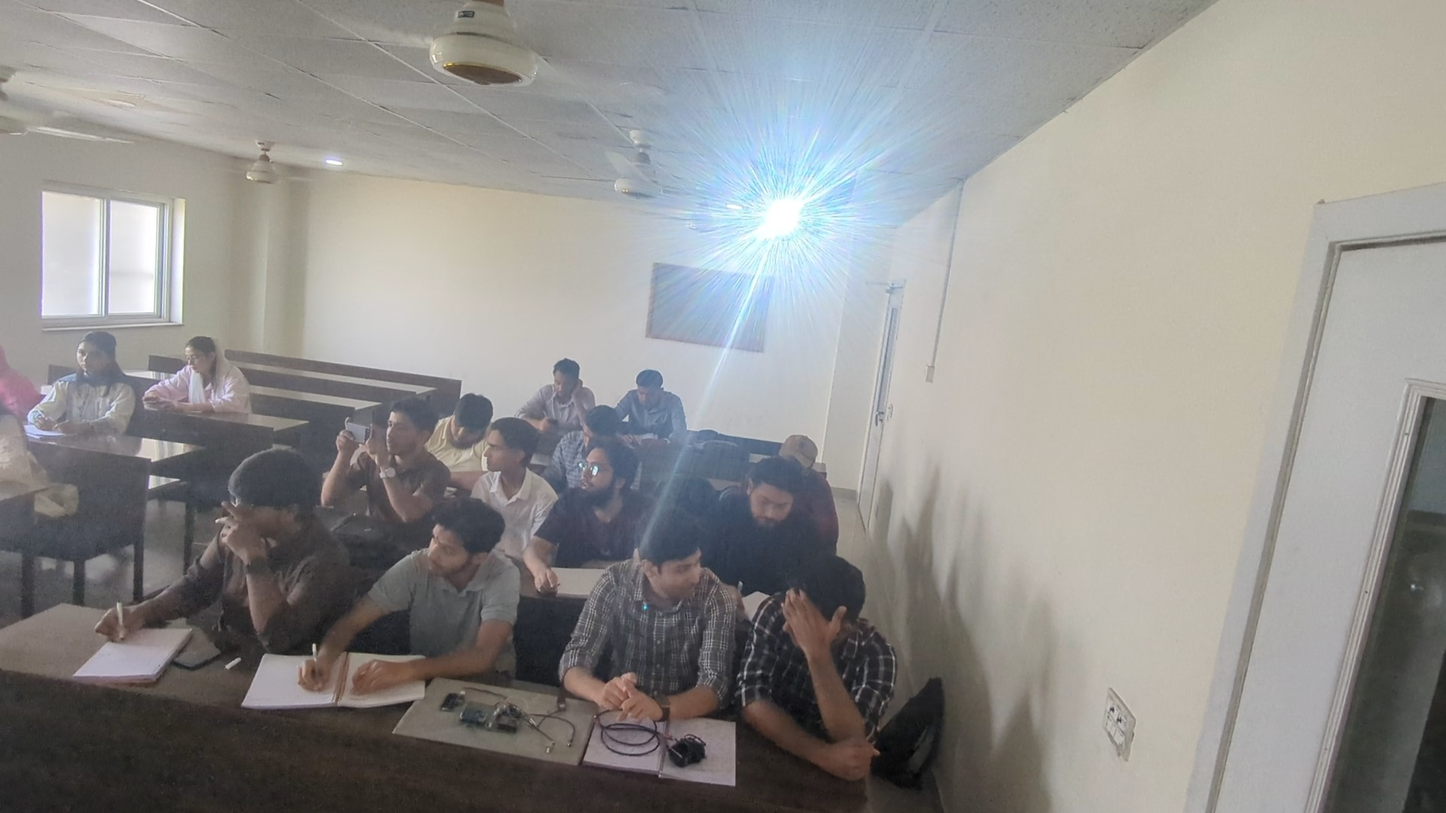look_forward: (97, 448, 338, 662), (369, 494, 521, 696), (40, 308, 147, 444), (563, 432, 648, 573), (471, 419, 575, 514)
read: (622, 355, 686, 446), (439, 377, 485, 488)
sleep: (756, 577, 923, 765)
turn_head: (589, 503, 718, 737)
using_device: (330, 374, 451, 511), (141, 310, 264, 418), (522, 333, 587, 434)
write: (719, 454, 806, 619)
